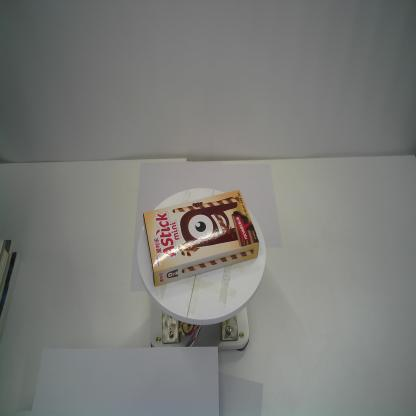Dessert: (142, 187, 260, 288)
